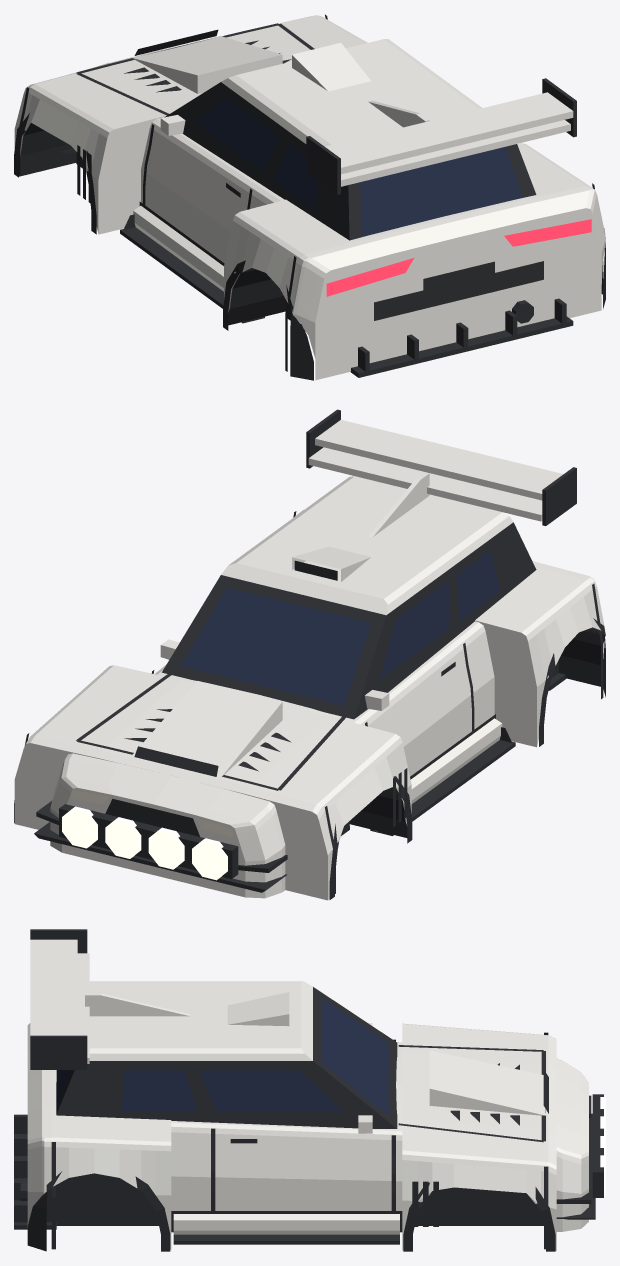
Rendered from Tsubasa.fbx.
The picture shows the model from 3 angles, top to bottom: view 1: azimuth 30°, elevation 25°; view 2: azimuth 150°, elevation 25°; view 3: azimuth 270°, elevation 25°; orthographic projection. The views are drawn at different scales.
Parts seen in each view (by area): view 1: BumperRear, Roof, RoofWingBlade, Hood, Door_FL, RearWindow, Fender_FL, Pillars, Cowl, Opt_Hood_Scoop_HoodScoop, Underbody, Fender_RL (+18 smaller); view 2: BumperFront, Roof, Hood, Windshield, Pillars, RoofWingBlade, Fender_RL, Opt_Hood_Scoop_HoodScoop, Door_FL, Opt_Bumper_Lamps_RallyLamp, Fender_FL, Cowl (+15 smaller); view 3: Roof, Door_FR, Hood, Pillars, Fender_RR, WheelWell, BumperFront, Fender_FR, RoofWingBlade, Opt_Hood_Scoop_HoodScoop, Window_FR, Opt_Skirts_Side_AccSkirt_R (+17 smaller).
Boxes of the visible parts, x1,y1,x2,y2 form: BumperRear: [290, 186, 605, 380]; Roof: [221, 39, 481, 146]; RoofWingBlade: [325, 92, 573, 186]; Hood: [35, 15, 365, 129]; Door_FL: [145, 121, 260, 263]; RearWindow: [360, 147, 523, 236]; Fender_FL: [20, 84, 159, 234]; Pillars: [165, 82, 536, 240]; Cowl: [180, 133, 585, 254]; Opt_Hood_Scoop_HoodScoop: [131, 36, 282, 93]; Underbody: [19, 123, 285, 325]; Fender_RL: [224, 187, 304, 312]; BumperFront: [14, 736, 332, 900]; Roof: [221, 476, 513, 615]; Hood: [35, 665, 395, 804]; Windshield: [181, 587, 370, 705]; Pillars: [162, 522, 536, 719]; RoofWingBlade: [308, 420, 563, 521]; Fender_RL: [457, 580, 600, 747]; Opt_Hood_Scoop_HoodScoop: [131, 681, 282, 778]; Door_FL: [357, 639, 471, 776]; Opt_Bumper_Lamps_RallyLamp: [62, 806, 227, 880]; Fender_FL: [317, 720, 411, 853]; Cowl: [160, 567, 585, 720]; Roof: [89, 981, 312, 1060]; Door_FR: [211, 1124, 396, 1210]; Hood: [396, 1024, 548, 1161]; Pillars: [56, 987, 397, 1128]; Fender_RR: [51, 1122, 210, 1250]; WheelWell: [29, 1173, 543, 1225]; BumperFront: [548, 1035, 588, 1250]; Fender_FR: [396, 1131, 548, 1250]; RoofWingBlade: [30, 939, 89, 1063]; Opt_Hood_Scoop_HoodScoop: [429, 1050, 548, 1116]; Window_FR: [200, 1070, 342, 1111]; Opt_Skirts_Side_AccSkirt_R: [173, 1214, 399, 1234].
Bounding box in the file's own units: 706 × 464 × 1245.
